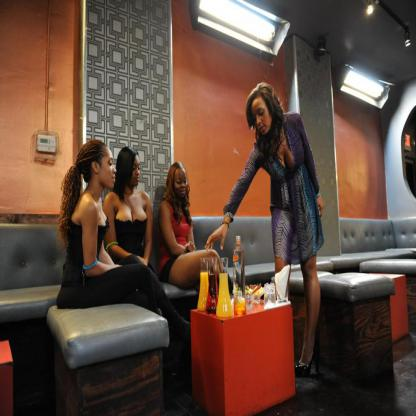face: (253, 98, 273, 136), (99, 150, 117, 189), (127, 157, 141, 185), (175, 170, 188, 199)
